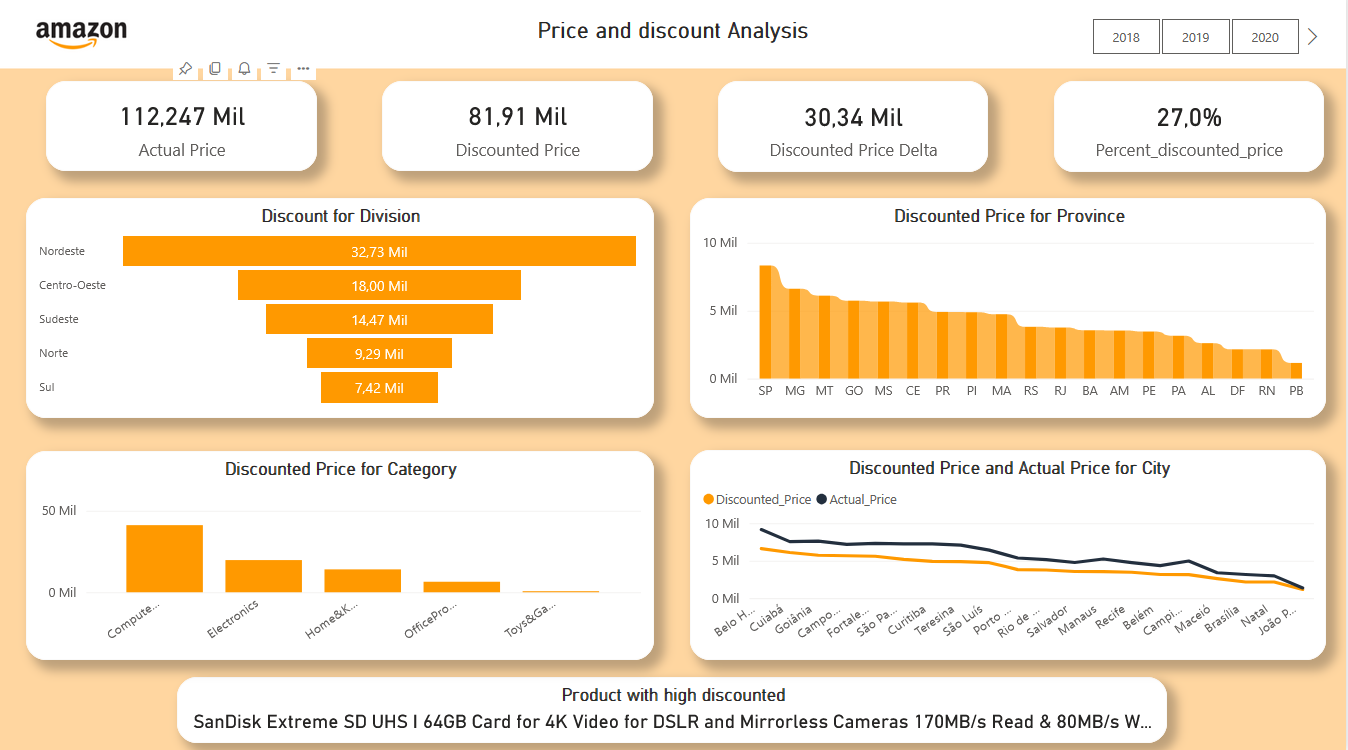

This screenshot's page, from the dashboard's own definition file:
{"tool":"powerbi","page":{"name":"Price and discount Analysis","canvas":[1280,720],"ordinal":0},"visuals":[{"type":"card","fields":{"Values":["#Medidas.Sales"]},"box":[44.6,83,257.6,85.5],"z":0},{"type":"card","fields":{"Values":["#Medidas.Discounted Price"]},"box":[363.9,82.6,257.4,85.8],"z":1000},{"type":"card","fields":{"Values":["#Medidas.Price Delta"]},"box":[683,82.6,257.4,86.9],"z":2000},{"type":"card","fields":{"Values":["#Medidas.Percent Discount Delta %"]},"box":[1002.1,82.6,257.4,86.9],"z":3000},{"type":"card","title":"Product with high discounted","fields":{"Values":["#Medidas.Product_maior_desconto"]},"box":[169.5,649.3,940.6,62.5],"z":4000},{"type":"ribbonChart","title":"Discounted Price for Province","fields":{"Category":["City.Province"],"Y":["#Medidas.Discounted_Price"]},"box":[655.7,193.8,604.9,208.7],"z":5000},{"type":"lineChart","title":"Discounted Price and Actual Price for City","fields":{"Y":["#Medidas.Discounted_Price","#Medidas.Actual_Price"],"Category":["City.City"]},"box":[655.7,433.2,604.9,200.2],"z":6000},{"type":"funnel","title":"Discount for Division","fields":{"Category":["City.Division"],"Y":["#Medidas.Discounted_Price"]},"box":[26.5,193.8,595.3,208.7],"z":7000},{"type":"clusteredColumnChart","title":"Discounted Price for Category","fields":{"Category":["amazon.category"],"Y":["#Medidas.Discounted_Price"]},"box":[26.5,434.3,595.3,199.1],"z":8000},{"type":"slicer","fields":{"Values":["Date.Date.Variation.Hierarquia de datas.Ano"]},"box":[1012.7,16.9,246.8,46.6],"z":9000},{"type":"textbox","box":[491.2,16.9,297.7,38.1],"z":10000}]}

Visuals, with their boxes on the page's 1280x720 design canvas (x1, y1, x2, y2). These are canvas units, not pixel positions in the 1348x750 screenshot, which may show the page scaled, cropped or inside an application window:
card - #Medidas.Sales: {"x1": 45, "y1": 83, "x2": 302, "y2": 168}
card - #Medidas.Discounted Price: {"x1": 364, "y1": 83, "x2": 621, "y2": 168}
card - #Medidas.Price Delta: {"x1": 683, "y1": 83, "x2": 940, "y2": 170}
card - #Medidas.Percent Discount Delta %: {"x1": 1002, "y1": 83, "x2": 1260, "y2": 170}
"Product with high discounted" card: {"x1": 170, "y1": 649, "x2": 1110, "y2": 712}
"Discounted Price for Province" ribbonChart: {"x1": 656, "y1": 194, "x2": 1261, "y2": 402}
"Discounted Price and Actual Price for City" lineChart: {"x1": 656, "y1": 433, "x2": 1261, "y2": 633}
"Discount for Division" funnel: {"x1": 26, "y1": 194, "x2": 622, "y2": 402}
"Discounted Price for Category" clusteredColumnChart: {"x1": 26, "y1": 434, "x2": 622, "y2": 633}
slicer - Date.Date.Variation.Hierarquia de datas.Ano: {"x1": 1013, "y1": 17, "x2": 1260, "y2": 64}
textbox: {"x1": 491, "y1": 17, "x2": 789, "y2": 55}
